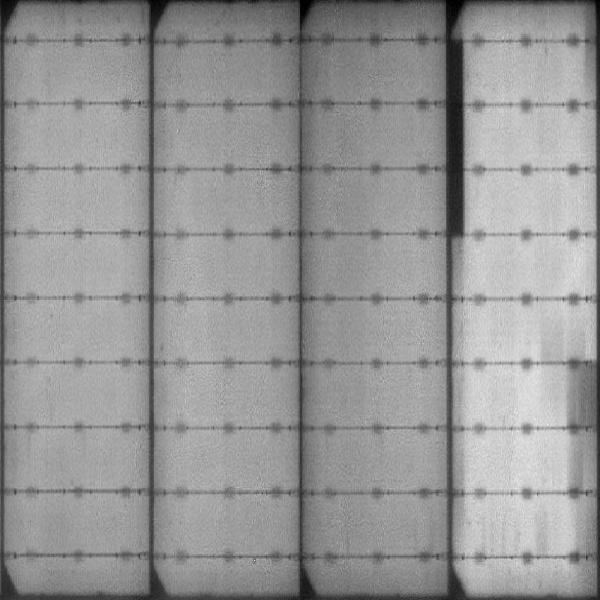black_border: (443, 37, 473, 240)
